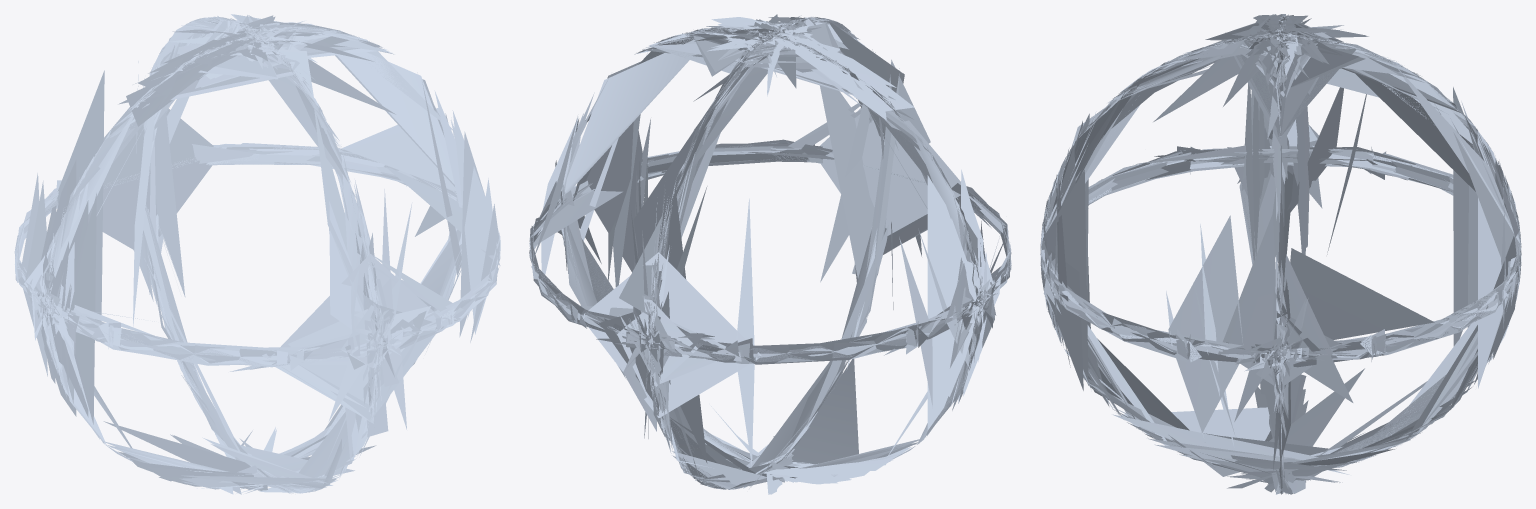
3 views of the same model, side by side, from view 1: azimuth 30°, elevation 25°; view 2: azimuth 150°, elevation 25°; view 3: azimuth 270°, elevation 25° (orthographic).
Visible parts, largest first — view 1: 2A-13-structural; view 2: 2A-13-structural; view 3: 2A-13-structural.
Boxes of the visible parts, x1,y1,x2,y2 form: 2A-13-structural: [14, 14, 500, 494]; 2A-13-structural: [529, 14, 1011, 494]; 2A-13-structural: [1040, 14, 1521, 494].
Bounding box in the file's own units: 2 × 2 × 2.
